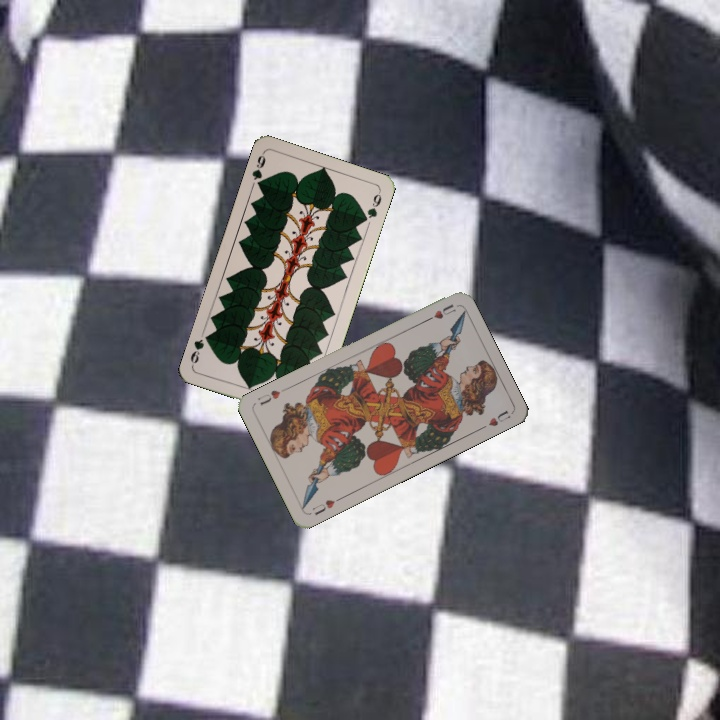G9: (248, 149, 268, 191)
HU: (421, 300, 459, 325), (308, 493, 344, 518)
